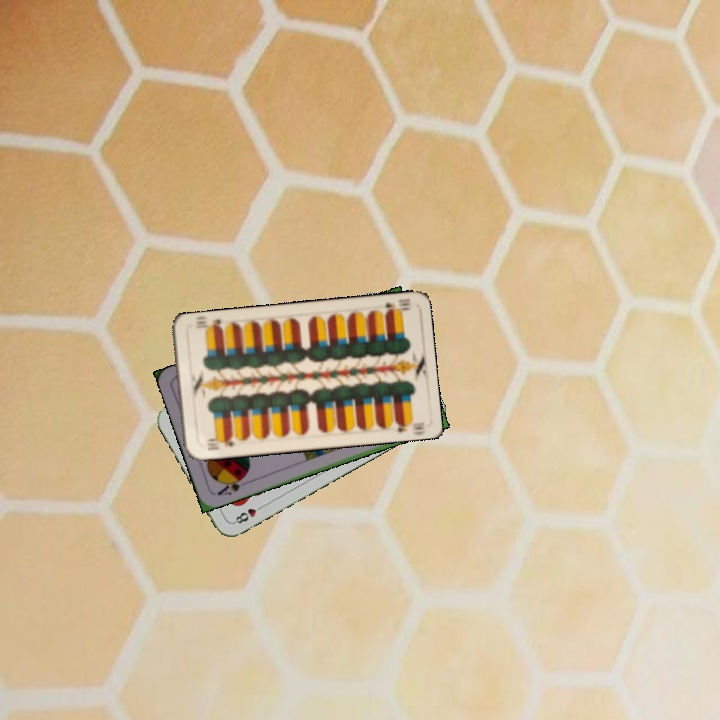E10: (380, 295, 413, 317), (203, 433, 237, 453)
H8: (229, 501, 267, 526)
SA: (213, 472, 249, 498)
